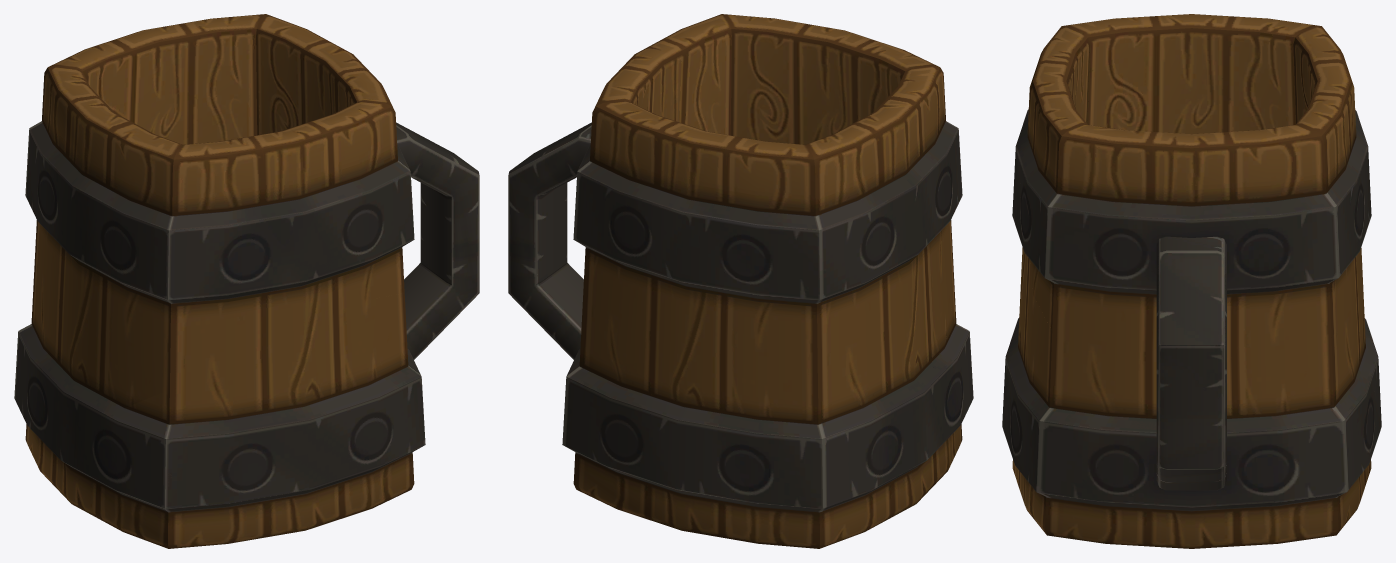
File: mug wooden.glb
3 renders of one model, left to right at view 1: azimuth 30°, elevation 25°; view 2: azimuth 150°, elevation 25°; view 3: azimuth 270°, elevation 25°, orthographic. The views are drawn at different scales.
Parts seen in each view (by area): view 1: Quest_Pirate_Mug_Fractured; view 2: Quest_Pirate_Mug_Fractured; view 3: Quest_Pirate_Mug_Fractured.
Boxes of the visible parts, x1=… form: Quest_Pirate_Mug_Fractured: x1=14, y1=14, x2=479, y2=548; Quest_Pirate_Mug_Fractured: x1=508, y1=14, x2=973, y2=548; Quest_Pirate_Mug_Fractured: x1=1002, y1=14, x2=1381, y2=548.
Bounding box in the file's own units: 0.277 × 0.252 × 0.2177.
1 material, 1 textured.
